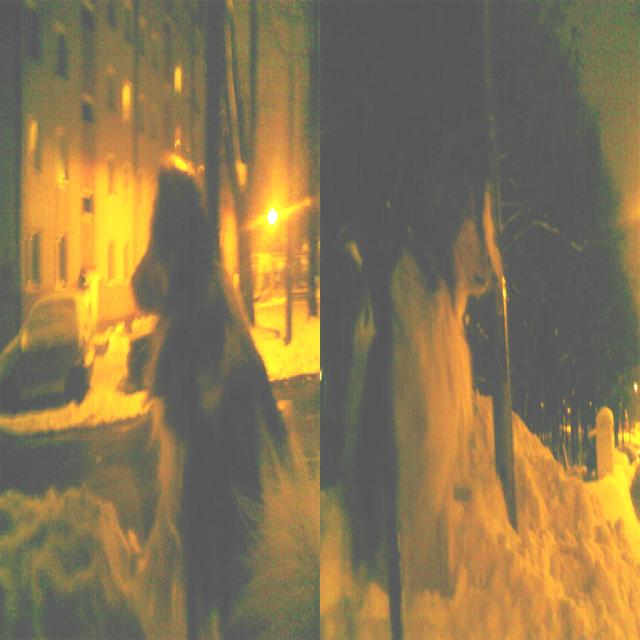Dog: (135, 81, 302, 634), (328, 130, 502, 640)
